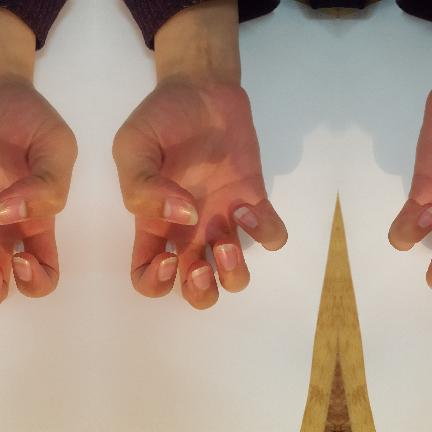Nail: (162, 197, 197, 225), (0, 197, 26, 225), (214, 244, 236, 271), (233, 207, 258, 229), (156, 257, 176, 281), (190, 266, 210, 290), (12, 257, 32, 281), (416, 207, 432, 229)
